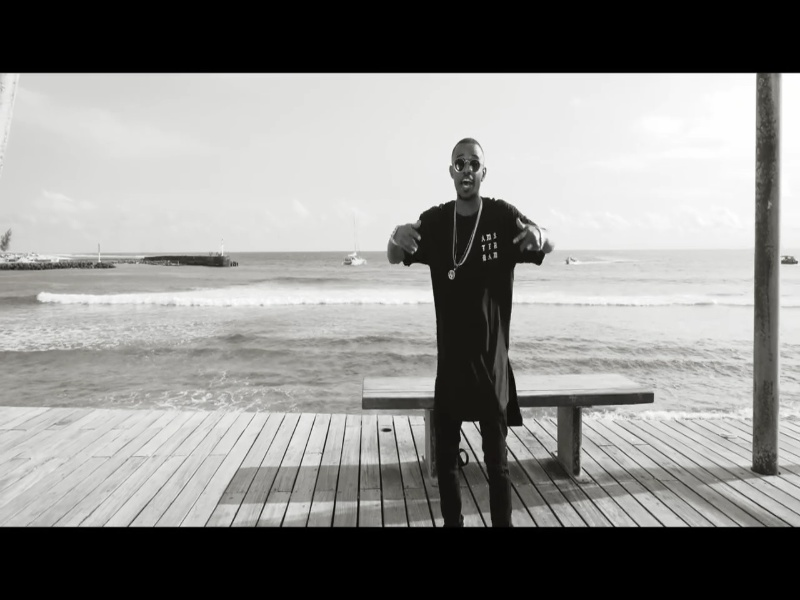TsisyArotava: (441, 133, 497, 212)
